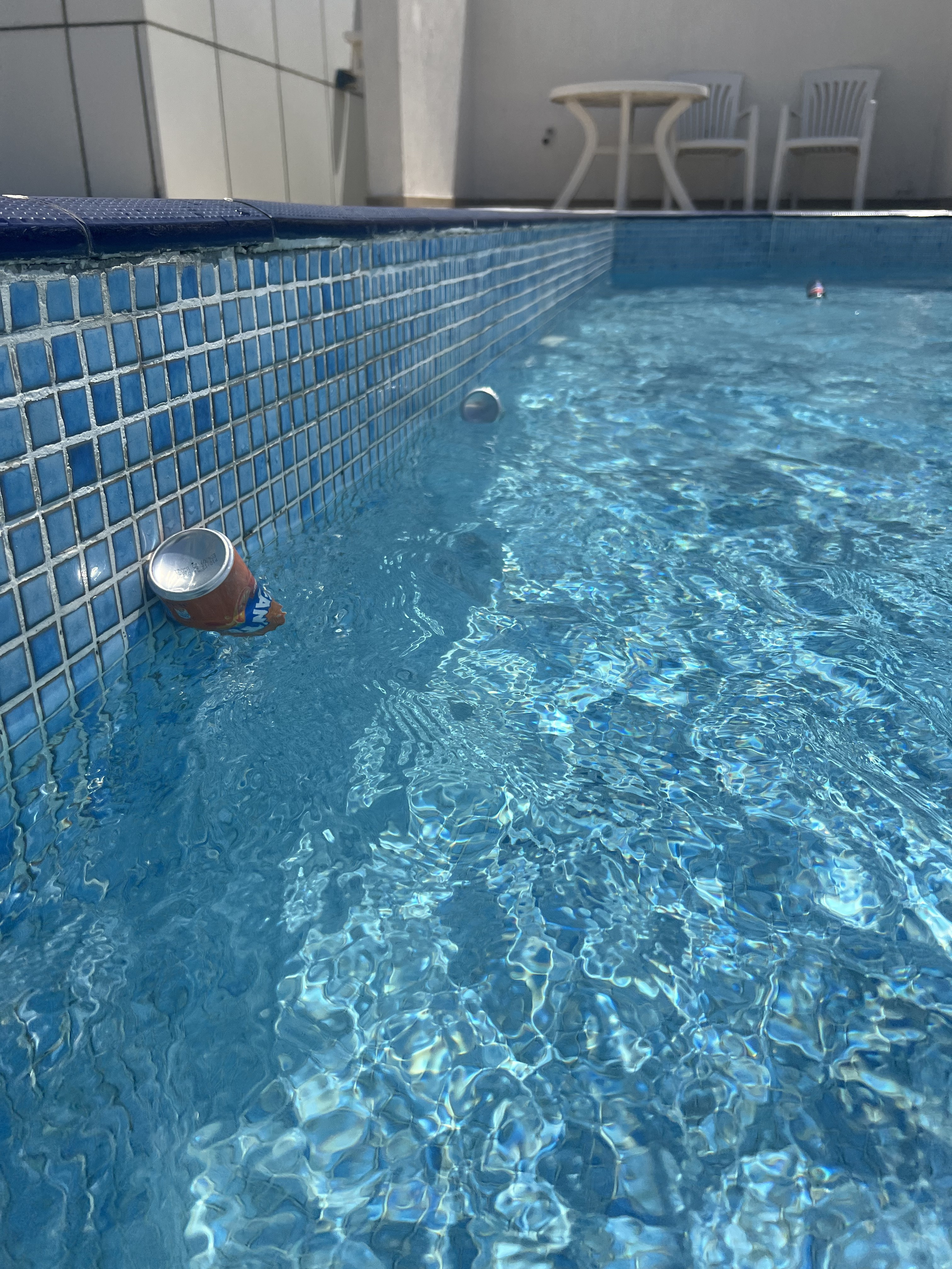debris: (142, 504, 289, 671), (456, 370, 501, 441), (802, 275, 830, 310)
